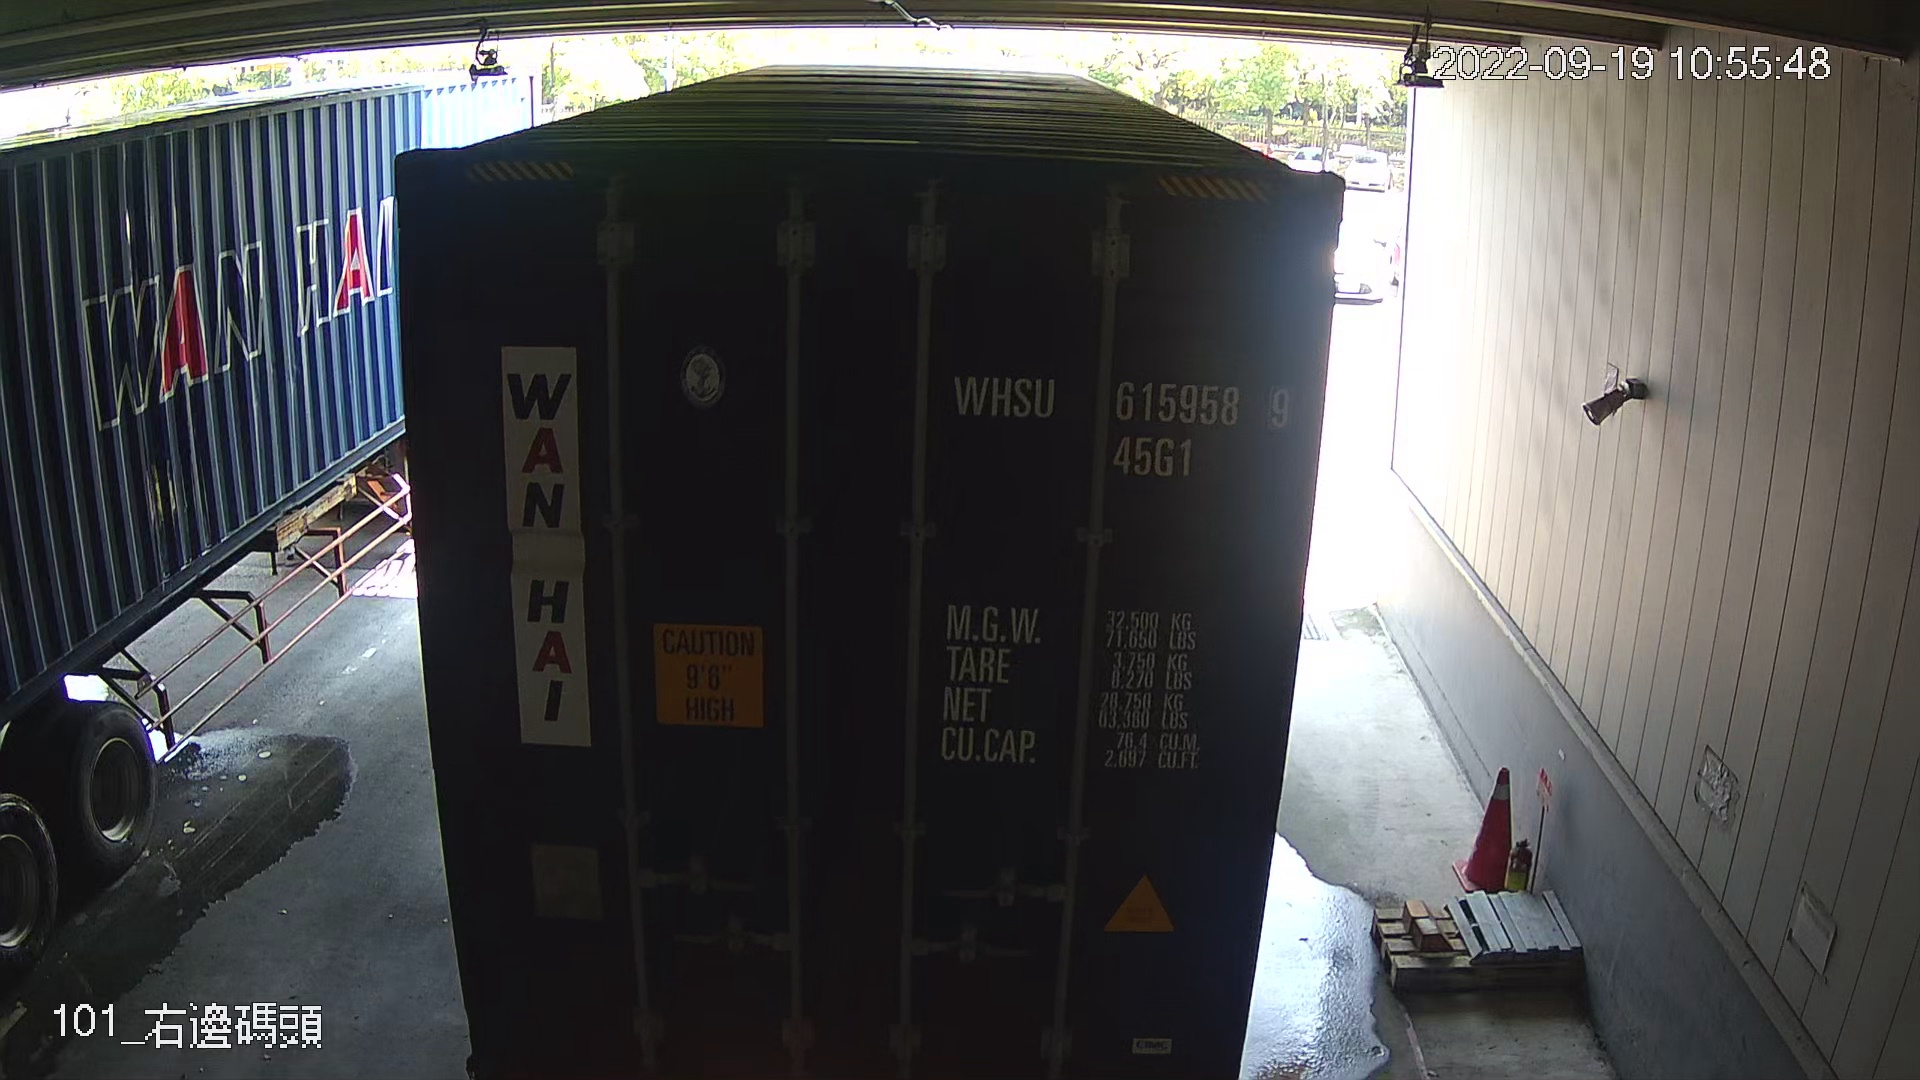container: (945, 360, 1300, 485)
